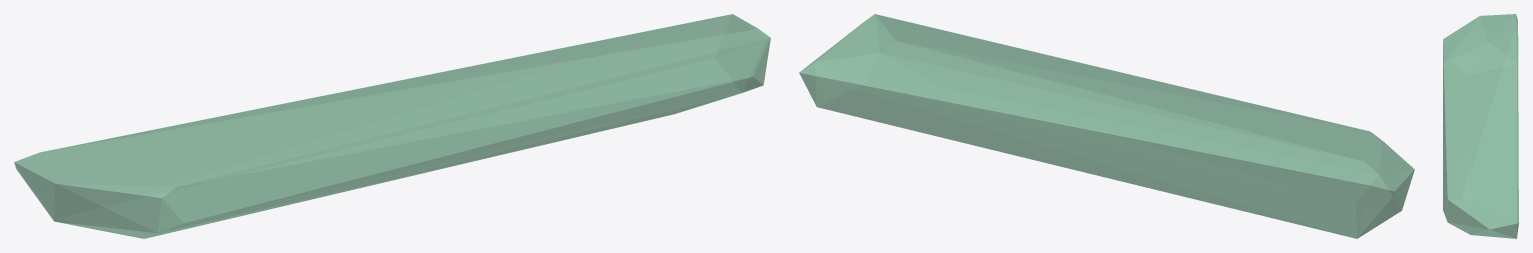
3 renders of one model, left to right at view 1: azimuth 30°, elevation 25°; view 2: azimuth 150°, elevation 25°; view 3: azimuth 270°, elevation 25°, orthographic. The views are drawn at different scales.
Visible parts, largest first — view 1: Shape_IndexedFaceSet.074_Shape_IndexedFaceSet.1771; view 2: Shape_IndexedFaceSet.074_Shape_IndexedFaceSet.1771; view 3: Shape_IndexedFaceSet.074_Shape_IndexedFaceSet.1771.
Boxes of the visible parts, bbox=[...] form: Shape_IndexedFaceSet.074_Shape_IndexedFaceSet.1771: bbox=[14, 14, 770, 238]; Shape_IndexedFaceSet.074_Shape_IndexedFaceSet.1771: bbox=[799, 14, 1414, 238]; Shape_IndexedFaceSet.074_Shape_IndexedFaceSet.1771: bbox=[1443, 14, 1518, 238].
Bounding box in the file's own units: 0.3404 × 0.0312 × 0.0561.
